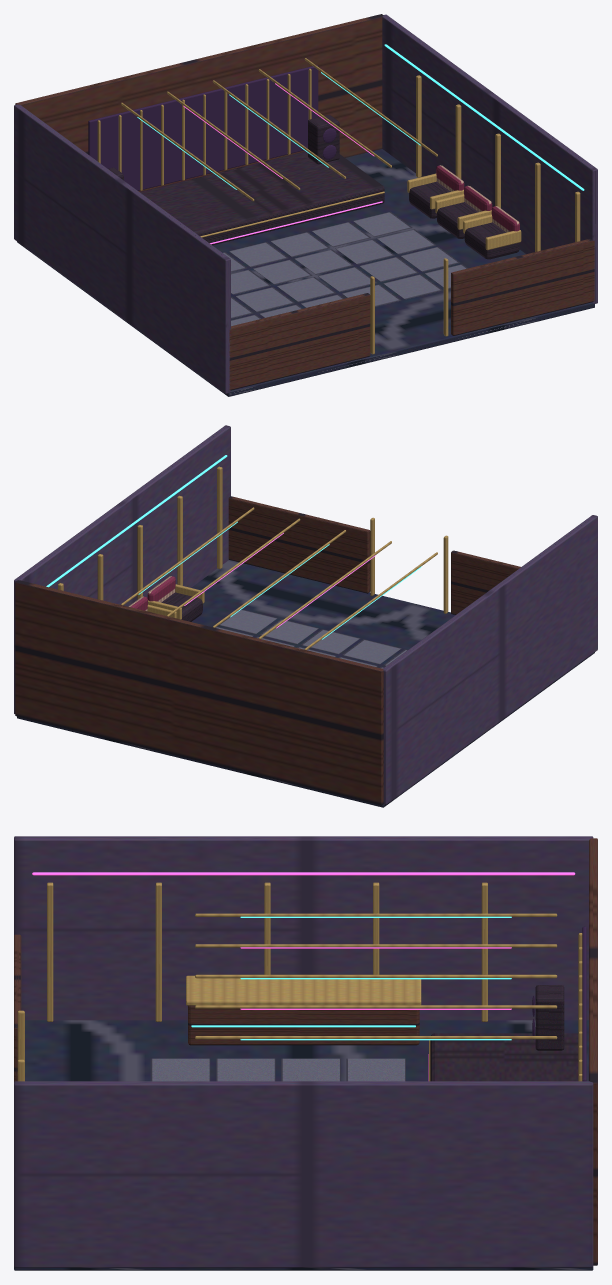
Rendered from denmu-club.raw.glb.
3 renders of one model, top to bottom at view 1: azimuth 30°, elevation 25°; view 2: azimuth 150°, elevation 25°; view 3: azimuth 270°, elevation 25°, orthographic. The views are drawn at different scales.
Visible parts, largest first — view 1: side-wall, side-wall.001, back-wall, backdrop, dance-floor, stage, front-wall.001, front-wall, sofa-seat.002, speaker.001, floor-inlay.006, floor-inlay.012 (+20 smaller); view 2: back-wall, side-wall, side-wall.001, dance-floor, front-wall.001, front-wall, floor-inlay.011, floor-inlay.023, floor-inlay.019, floor-inlay.015, sofa-seat.002, wall-neon.001 (+2 smaller); view 3: side-wall.001, side-wall, dance-floor, bar-counter, bar-gold-top, stage, back-wall, wall-neon, speaker, ceiling-truss.002, floor-inlay.003, ceiling-truss.001 (+14 smaller).
Boxes of the visible parts, x1=… form: side-wall: x1=14, y1=104, x2=230, y2=393; side-wall.001: x1=382, y1=14, x2=597, y2=303; back-wall: x1=15, y1=14, x2=383, y2=191; backdrop: x1=88, y1=65, x2=318, y2=190; dance-floor: x1=17, y1=149, x2=594, y2=396; stage: x1=140, y1=151, x2=384, y2=245; front-wall.001: x1=451, y1=238, x2=594, y2=335; front-wall: x1=229, y1=293, x2=370, y2=390; sofa-seat.002: x1=464, y1=222, x2=519, y2=259; speaker.001: x1=308, y1=115, x2=339, y2=164; floor-inlay.006: x1=235, y1=287, x2=294, y2=312; floor-inlay.012: x1=270, y1=232, x2=329, y2=257; back-wall: x1=15, y1=580, x2=383, y2=805; side-wall: x1=382, y1=515, x2=597, y2=804; side-wall.001: x1=14, y1=425, x2=230, y2=713; dance-floor: x1=17, y1=560, x2=594, y2=807; front-wall.001: x1=228, y1=496, x2=370, y2=593; front-wall: x1=451, y1=550, x2=520, y2=614; floor-inlay.011: x1=342, y1=639, x2=401, y2=664; floor-inlay.023: x1=219, y1=609, x2=277, y2=634; floor-inlay.019: x1=259, y1=619, x2=318, y2=644; floor-inlay.015: x1=301, y1=629, x2=359, y2=654; sofa-seat.002: x1=161, y1=592, x2=202, y2=621; wall-neon.001: x1=46, y1=455, x2=227, y2=587; side-wall.001: x1=14, y1=1081, x2=593, y2=1267; side-wall: x1=14, y1=836, x2=593, y2=1020; dance-floor: x1=14, y1=1020, x2=593, y2=1270; bar-counter: x1=188, y1=1005, x2=419, y2=1045; bar-gold-top: x1=186, y1=975, x2=421, y2=1005; stage: x1=430, y1=1033, x2=578, y2=1081; back-wall: x1=589, y1=838, x2=597, y2=1265; wall-neon: x1=32, y1=872, x2=575, y2=875; speaker: x1=535, y1=985, x2=564, y2=1050; ceiling-truss.002: x1=195, y1=974, x2=557, y2=978; floor-inlay.003: x1=150, y1=1058, x2=210, y2=1081; ceiling-truss.001: x1=195, y1=944, x2=557, y2=947.
Bounding box in the file's own units: 16.25 × 5.75 × 16.13.
Materials: 4 (1 with a texture image).
